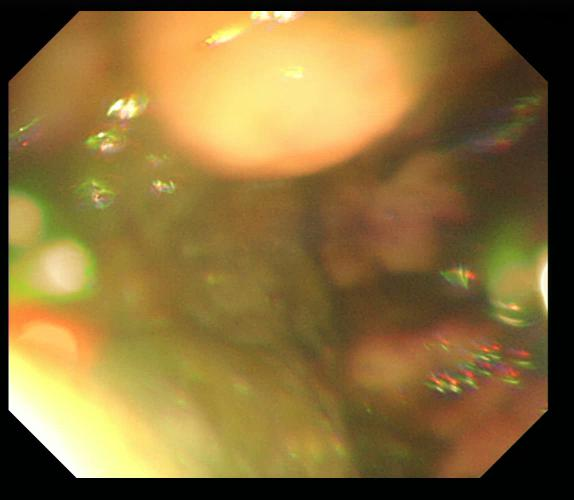polyp: (113, 10, 445, 186)
